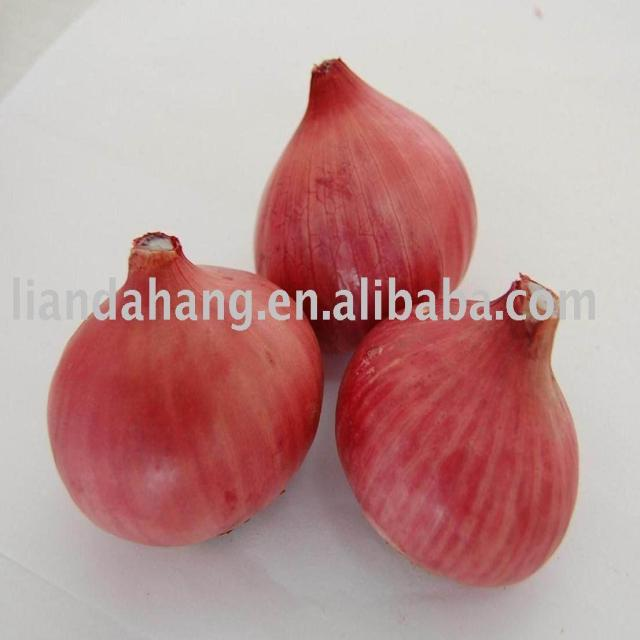Onion: (46, 227, 326, 549), (333, 271, 580, 590), (251, 57, 476, 356)
